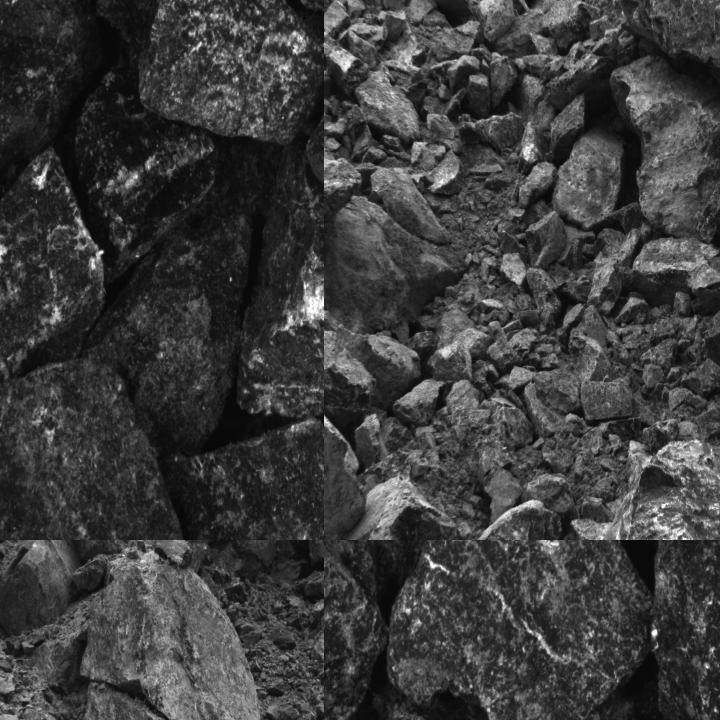stone: (384, 540, 653, 719), (81, 214, 250, 461), (0, 345, 205, 539), (74, 62, 218, 280), (82, 558, 274, 719), (136, 0, 323, 144), (0, 150, 104, 394), (238, 147, 323, 416), (158, 411, 323, 539), (614, 56, 719, 236), (0, 0, 98, 182), (324, 540, 390, 719), (597, 446, 719, 539), (324, 325, 422, 426), (324, 475, 472, 539), (554, 128, 632, 232), (0, 540, 81, 637), (616, 0, 719, 75), (369, 166, 454, 243), (626, 236, 720, 304), (664, 426, 719, 539), (73, 683, 245, 719), (356, 68, 420, 142), (324, 150, 363, 260), (30, 629, 86, 697), (466, 500, 562, 539), (543, 0, 598, 50), (459, 114, 527, 153), (550, 96, 585, 164), (686, 247, 719, 319), (526, 212, 566, 271), (325, 44, 367, 100), (393, 379, 443, 424), (581, 380, 632, 422), (588, 257, 624, 315), (527, 268, 563, 325), (520, 162, 560, 211), (428, 151, 468, 199), (427, 342, 473, 383), (473, 0, 514, 42), (54, 540, 137, 560), (491, 52, 518, 112), (681, 358, 719, 398), (640, 338, 677, 376), (72, 557, 110, 592), (232, 540, 278, 568), (147, 540, 193, 568), (324, 0, 352, 37), (467, 73, 490, 115), (500, 253, 525, 289), (703, 310, 719, 365)
